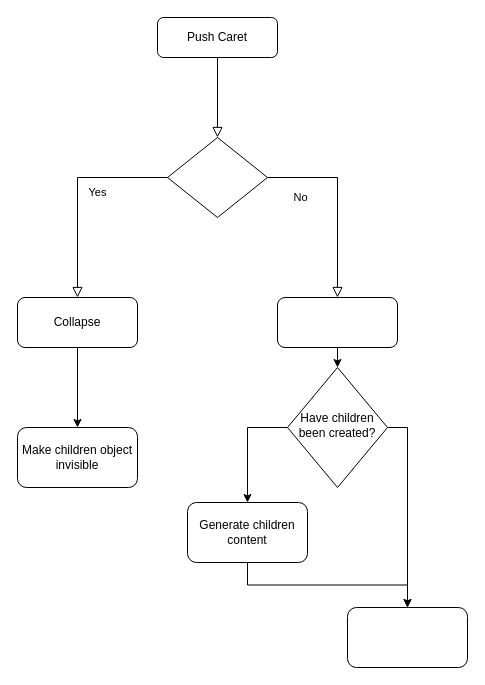
This 485x685 diagram has some shape labels left out. Here are the shapes that lost their labels. From the top down, the box of each, then its label:
(166, 136, 268, 218): Is this node expanded?
(276, 296, 398, 348): Expand
(346, 606, 468, 668): Make children object visible
